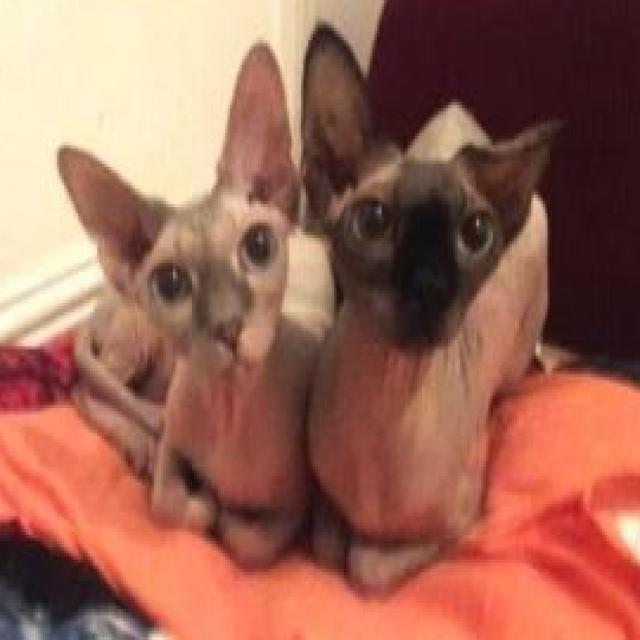Sphynx: (297, 22, 572, 591), (51, 38, 306, 573)
